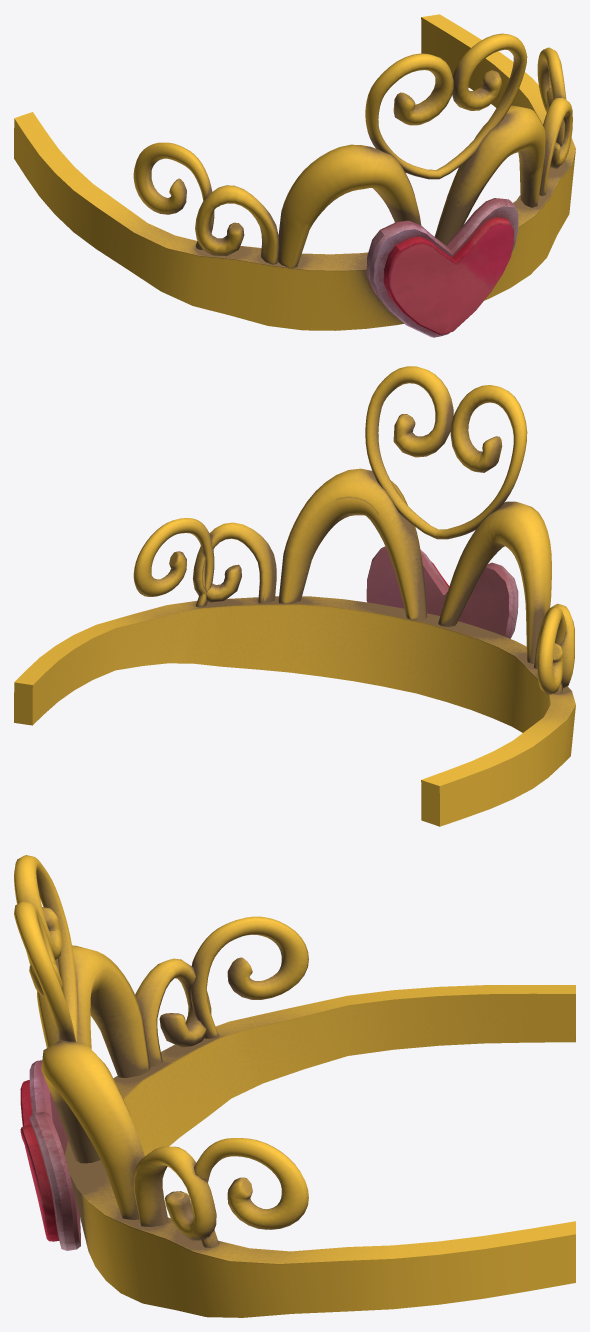
The model's file is crown3.fbx.
3 views of the same model, one above another, from view 1: azimuth 30°, elevation 25°; view 2: azimuth 150°, elevation 25°; view 3: azimuth 270°, elevation 25° (orthographic). The views are drawn at different scales.
Visible parts, largest first — view 1: crown3; view 2: crown3; view 3: crown3.
Boxes of the visible parts, x1,y1,x2,y2 form: crown3: [14, 14, 575, 337]; crown3: [14, 366, 575, 826]; crown3: [14, 855, 575, 1317].
Bounding box in the file's own units: 0.3283 × 0.2073 × 0.2901.
Materials: 2 (2 with a texture image).
